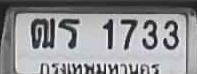1: (102, 18, 112, 48)
3: (162, 19, 178, 49), (141, 19, 157, 49)
7: (120, 18, 136, 49)
A18: (30, 17, 54, 48)
A35: (58, 18, 79, 48)
BKK: (39, 58, 162, 74)
